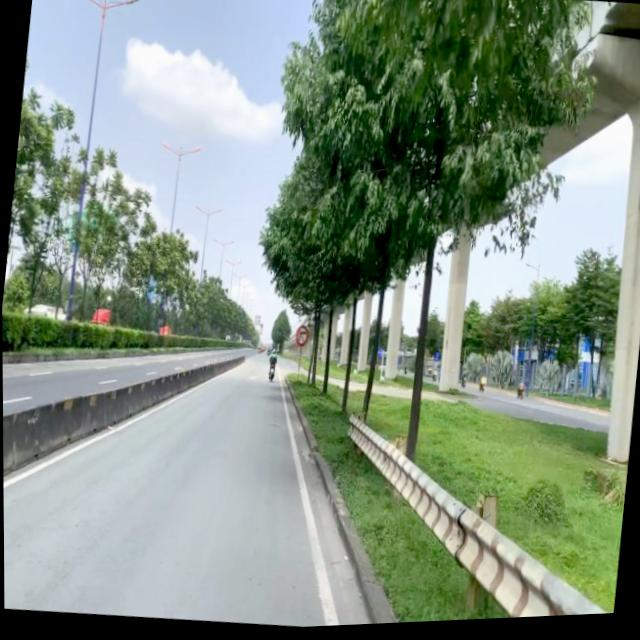Cam re phai: (294, 325, 309, 350)
